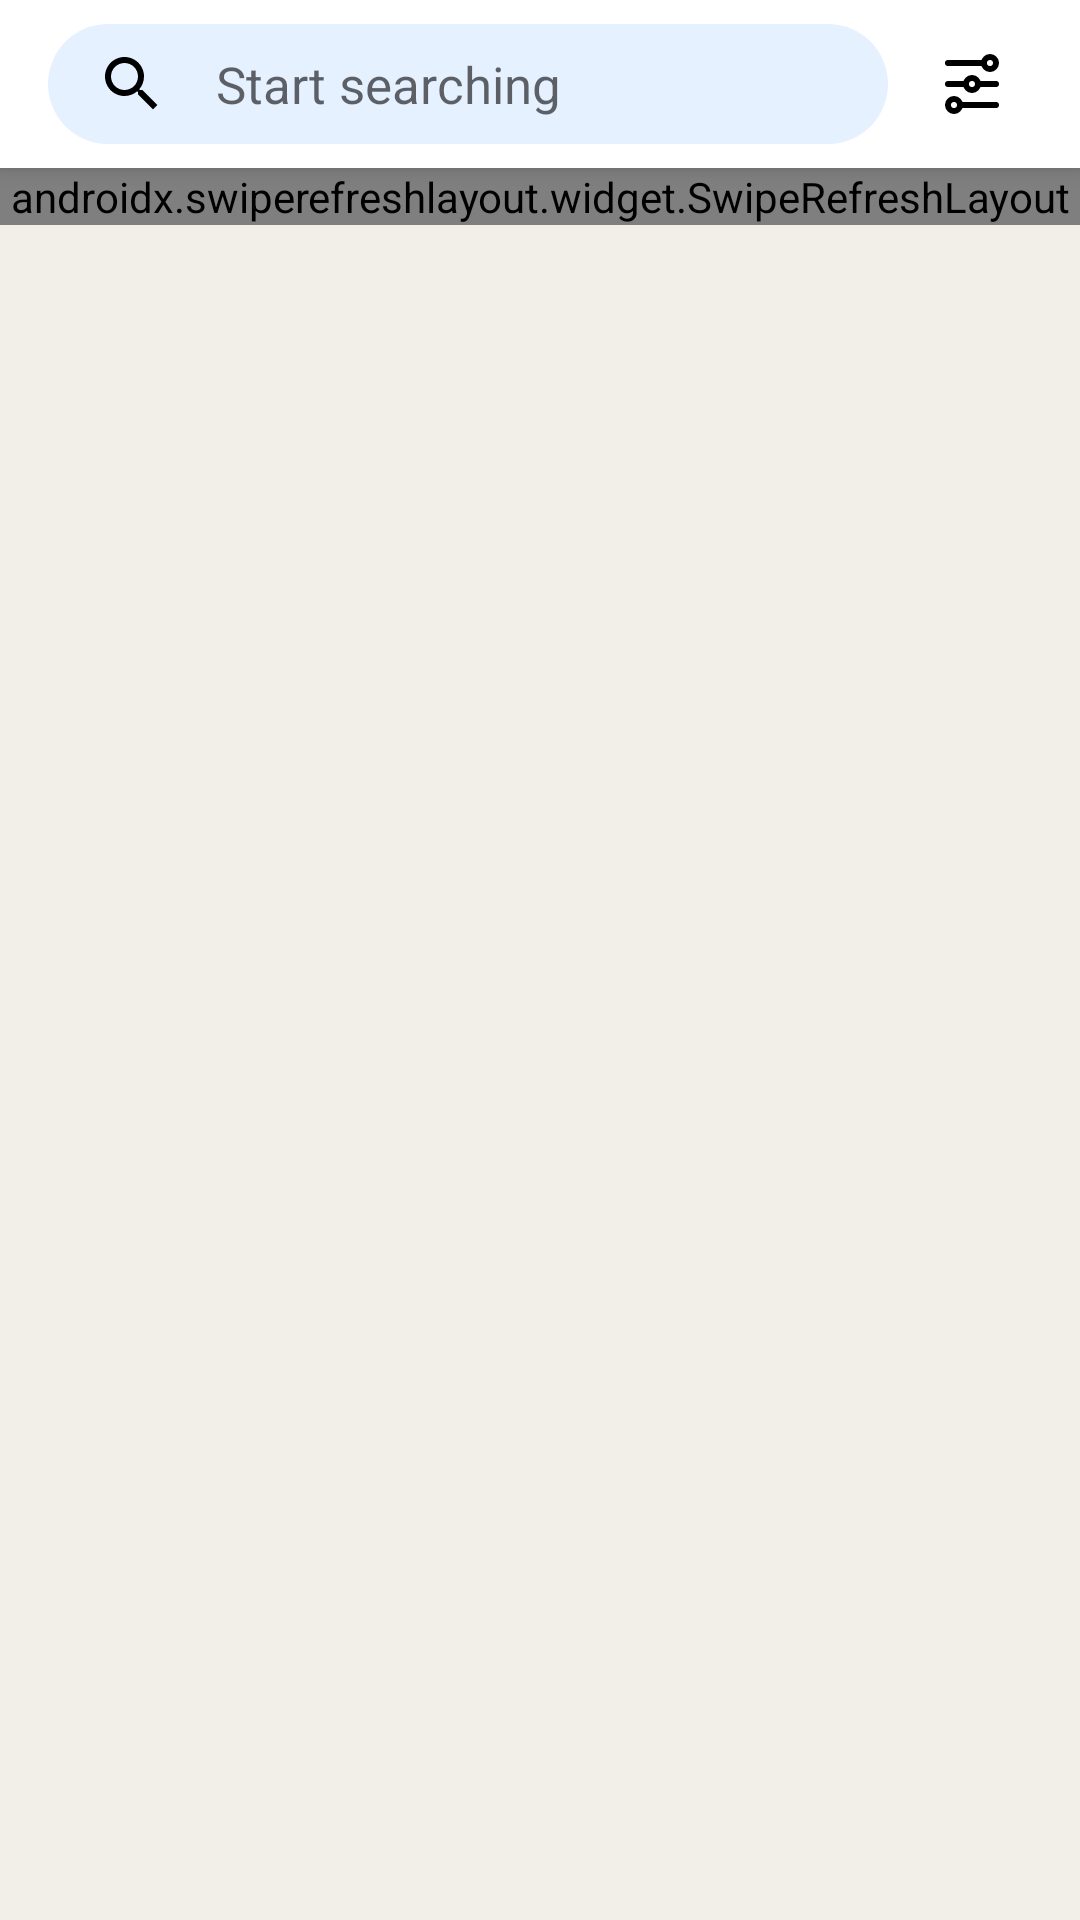

Icon click points for this 1080*1920 phone screenshot, format (x,y):
Filters: (972,84)
